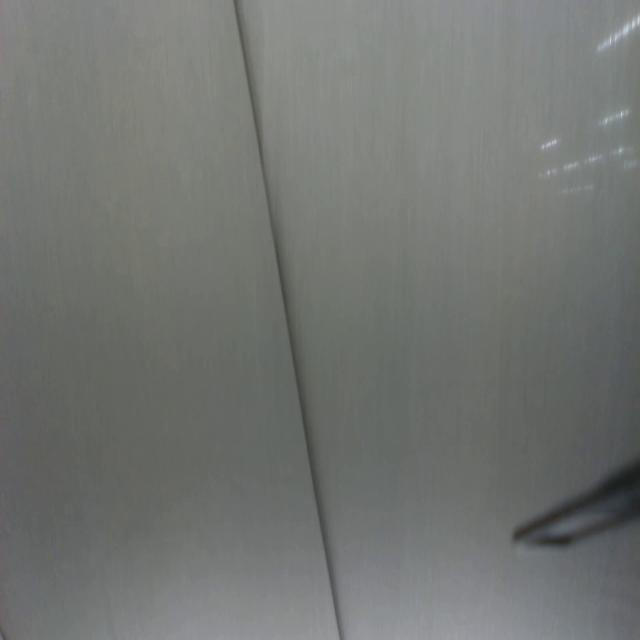crease: (231, 0, 348, 639)
